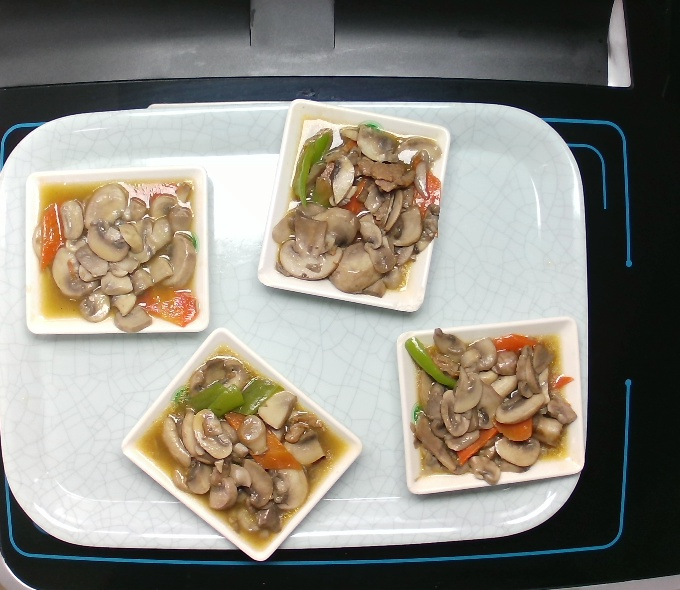wcq-HouTouGuChaoRou: (127, 345, 340, 549), (272, 114, 445, 295), (396, 320, 576, 487), (26, 178, 205, 339)
